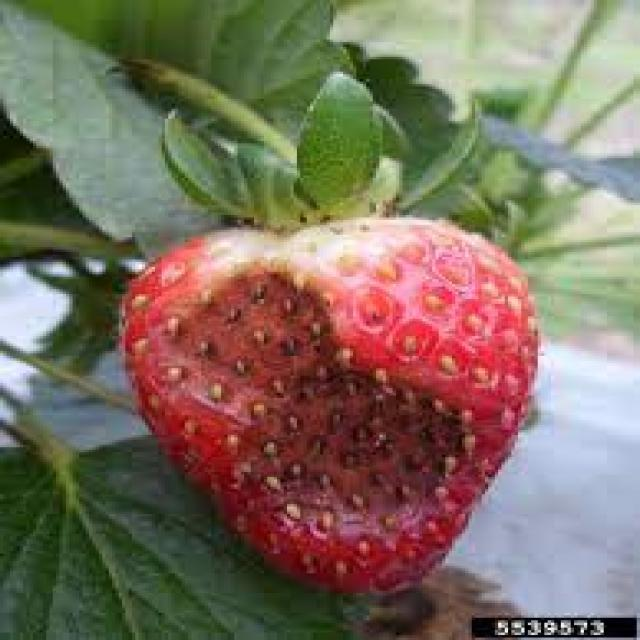Mancha negra Antracnosis: (118, 226, 530, 604)
